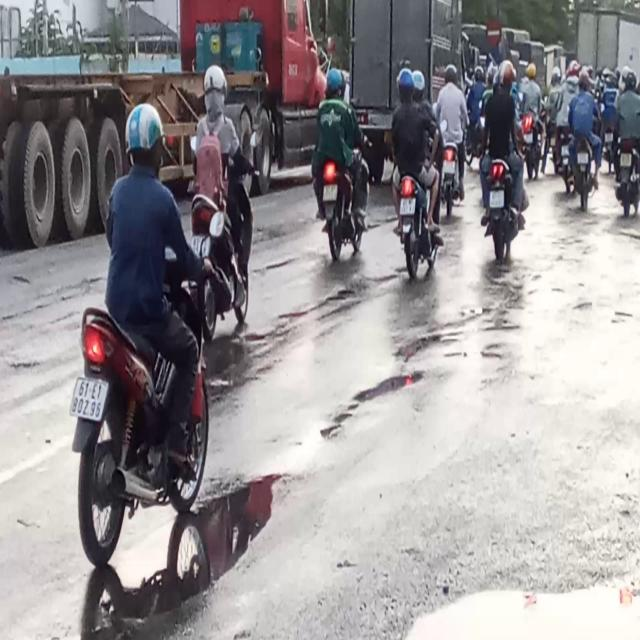bien_trang: (70, 374, 108, 419)
